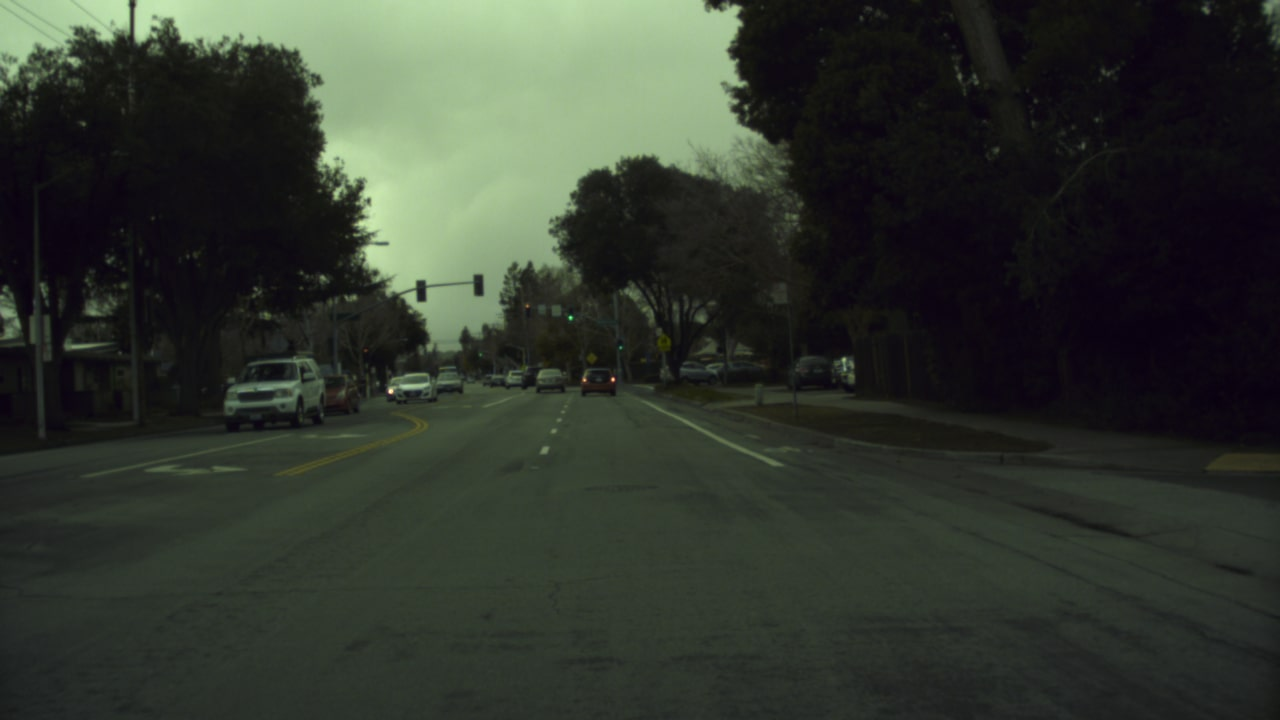signal: (563, 309, 578, 327), (519, 302, 533, 316), (613, 341, 621, 353)
